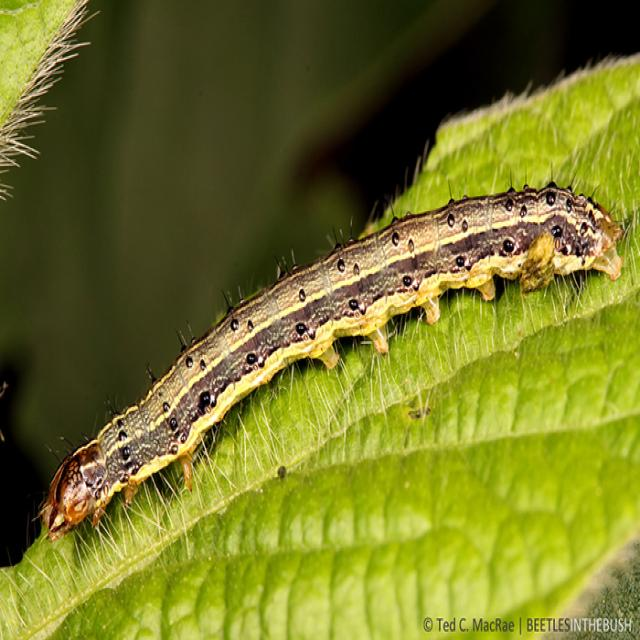worm: (34, 170, 624, 548)
